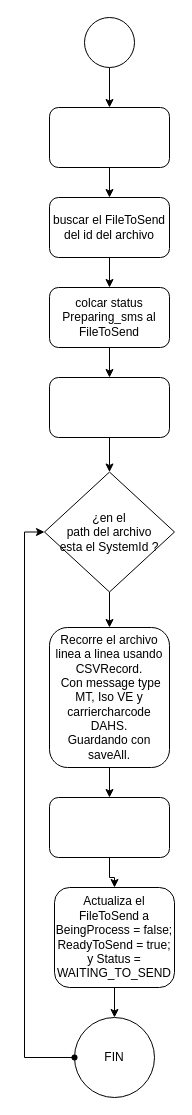
The diagram is 192 pixels wide and 1115 high, and some of its shapes have lost their labels. Here are the shapes that lost their labels. From the top down, the centre of each, then its label:
the point at 109,137: Obtener nombre del archivo sin la extension
the point at 109,407: sacar el SystemId del path del archivo.
the point at 109,827: crea el nuevo Path "/succes" y copia alli el archivo analizado.
